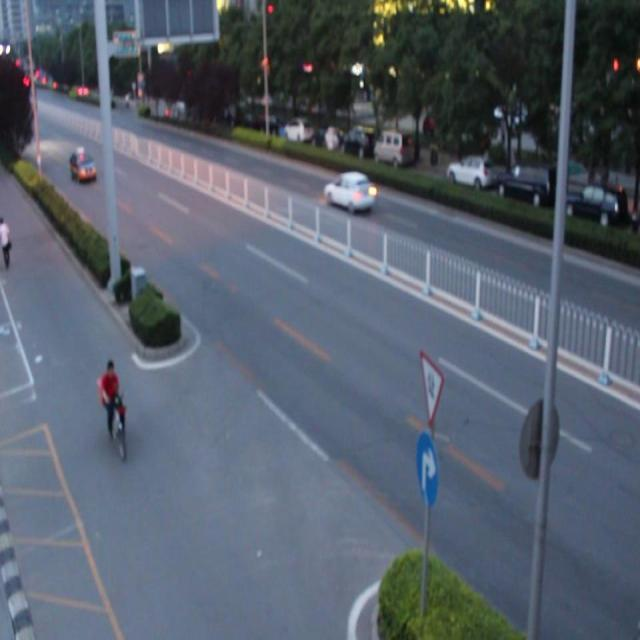car: (322, 170, 374, 212)
